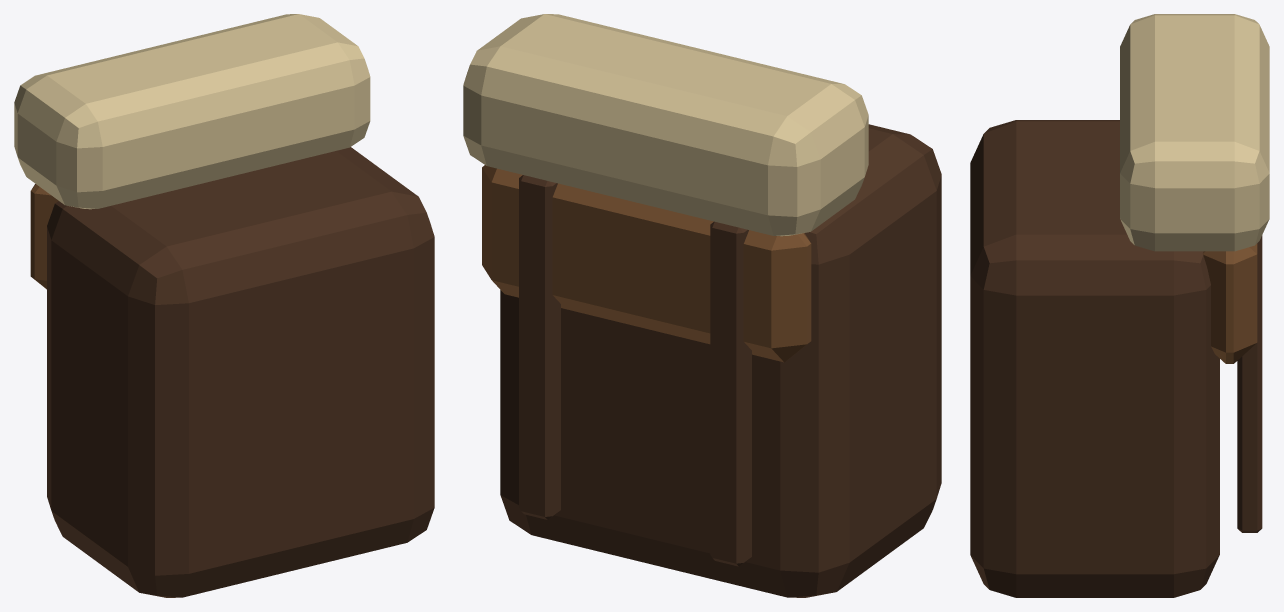
File: SM_NPC_Back_03_Pack.glb
The picture shows the model from 3 angles, left to right: view 1: azimuth 30°, elevation 25°; view 2: azimuth 150°, elevation 25°; view 3: azimuth 270°, elevation 25°; orthographic projection. The views are drawn at different scales.
Visible parts, largest first — view 1: SM_NPC_Back_03_Pack; view 2: SM_NPC_Back_03_Pack; view 3: SM_NPC_Back_03_Pack.
Boxes of the visible parts, <box> form: SM_NPC_Back_03_Pack: <box>14,14,434,597</box>; SM_NPC_Back_03_Pack: <box>463,14,941,597</box>; SM_NPC_Back_03_Pack: <box>970,14,1269,597</box>.
Bounding box in the file's own units: 0.37 × 0.51 × 0.3.
